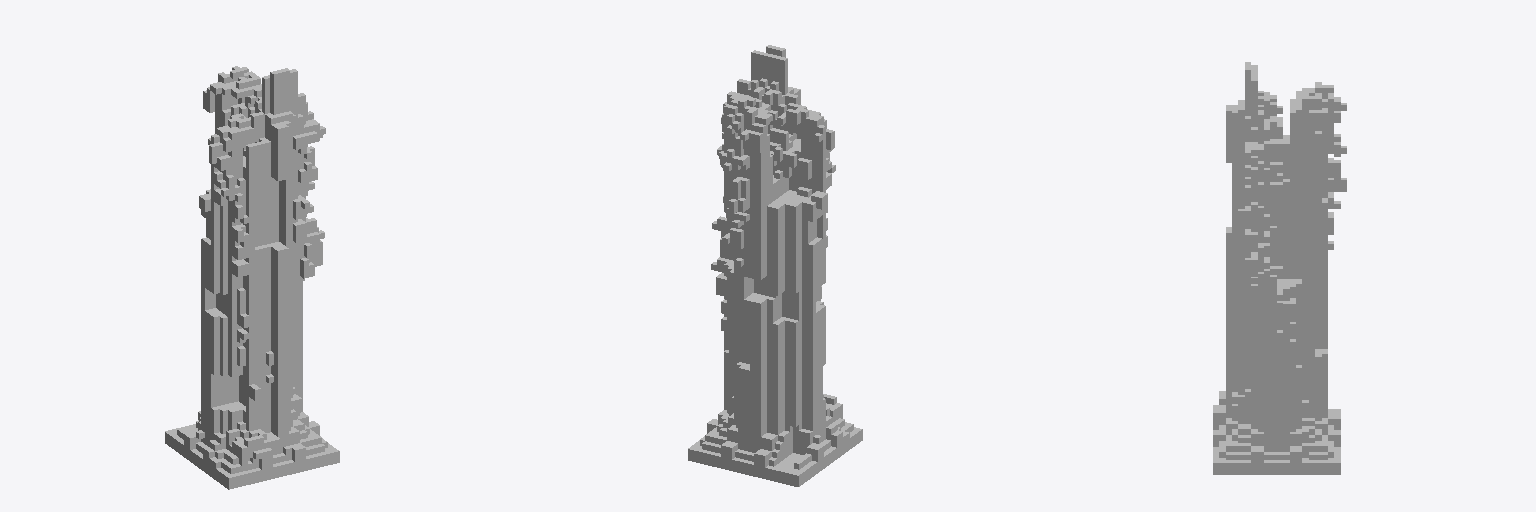
The model's file is Pillar Broken.obj.
The picture shows the model from 3 angles: view 1: azimuth 30°, elevation 25°; view 2: azimuth 150°, elevation 25°; view 3: azimuth 270°, elevation 25°; orthographic projection.
Visible parts, largest first — view 1: object 1; view 2: object 1; view 3: object 1.
Boxes of the visible parts, <box> form: object 1: <box>165,66,339,489</box>; object 1: <box>688,45,862,486</box>; object 1: <box>1213,62,1346,474</box>.
Bounding box in the file's own units: 2.2 × 6.7 × 2.1.